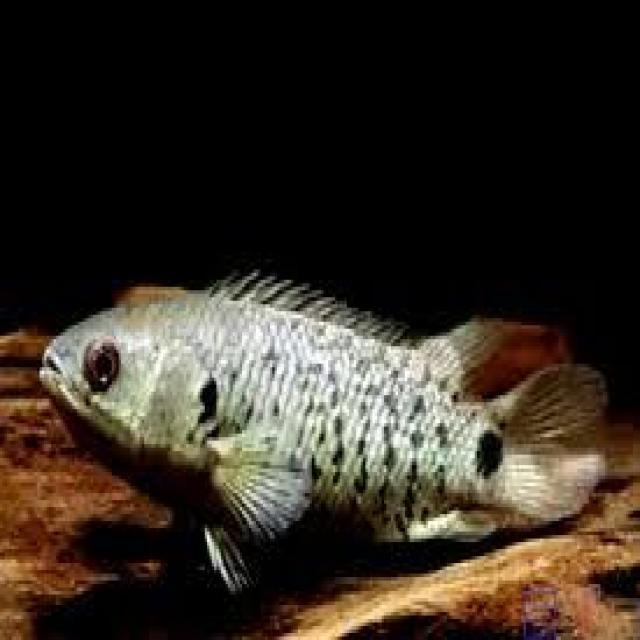Climbing-Perch: (36, 198, 595, 590)
